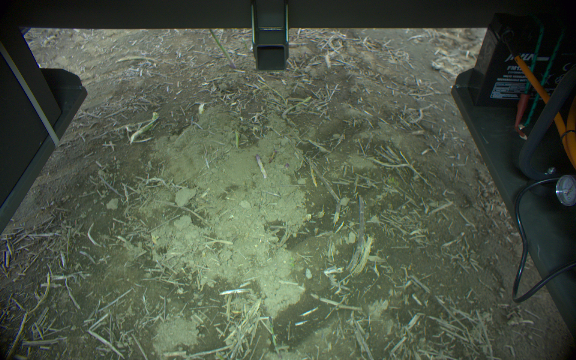aspa: (207, 28, 236, 70), (253, 154, 269, 180), (233, 127, 240, 149)
